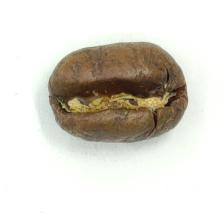NG: (60, 59, 178, 129)
